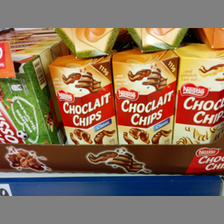chocolate: (111, 48, 177, 146), (48, 55, 118, 144), (174, 45, 222, 143)
